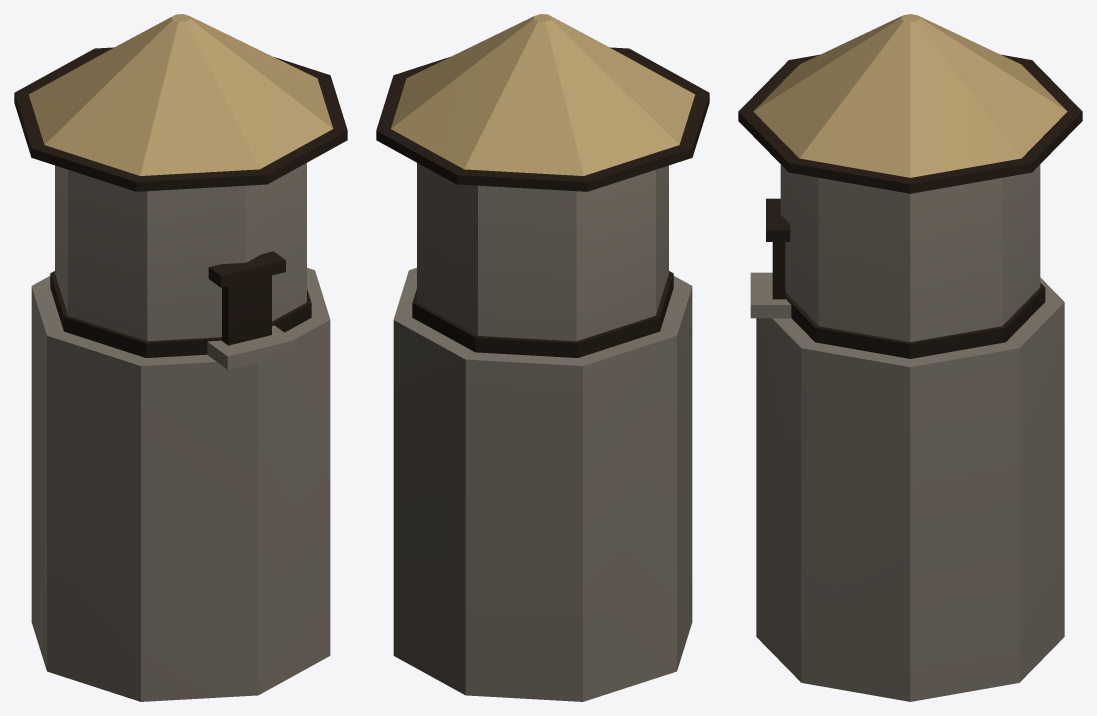
File: killke_qollqa_lod1.glb
3 views of the same model, side by side, from view 1: azimuth 30°, elevation 25°; view 2: azimuth 150°, elevation 25°; view 3: azimuth 270°, elevation 25° (orthographic).
Visible parts, largest first — view 1: GEO-Arch_killke_qollqa_LOD1; view 2: GEO-Arch_killke_qollqa_LOD1; view 3: GEO-Arch_killke_qollqa_LOD1.
Part boxes in pixels (x1,y1,x2,y2): GEO-Arch_killke_qollqa_LOD1: (14, 14, 347, 701); GEO-Arch_killke_qollqa_LOD1: (376, 14, 709, 701); GEO-Arch_killke_qollqa_LOD1: (738, 14, 1082, 701).
Bounding box in the file's own units: 4.24 × 8.41 × 4.24.
